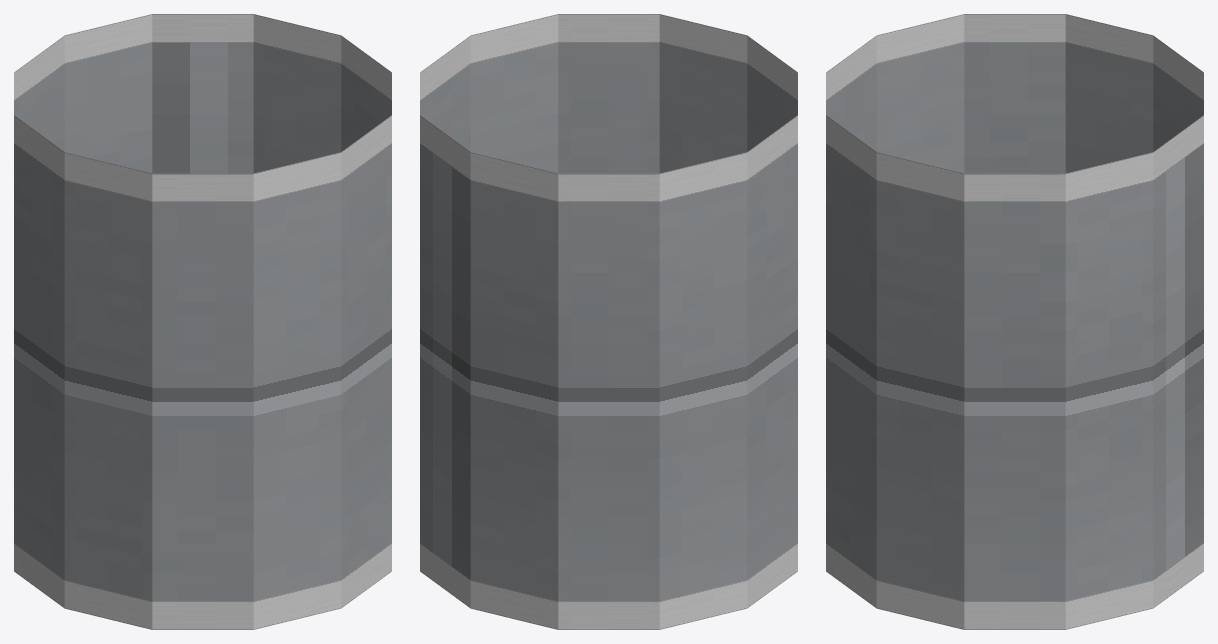
File: connection_3.obj
3 views of the same model, side by side, from view 1: azimuth 30°, elevation 25°; view 2: azimuth 150°, elevation 25°; view 3: azimuth 270°, elevation 25° (orthographic).
Size of the model in its own units: 0.75 by 1 by 0.75.
